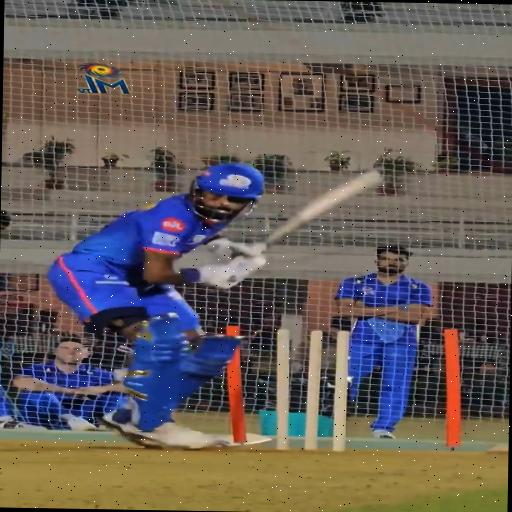Cricket bat: (265, 168, 381, 248)
